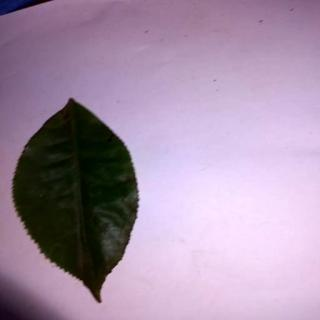Bird Eye Spot: (13, 97, 140, 306)
